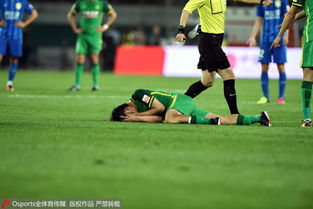fall: (109, 82, 268, 127)
